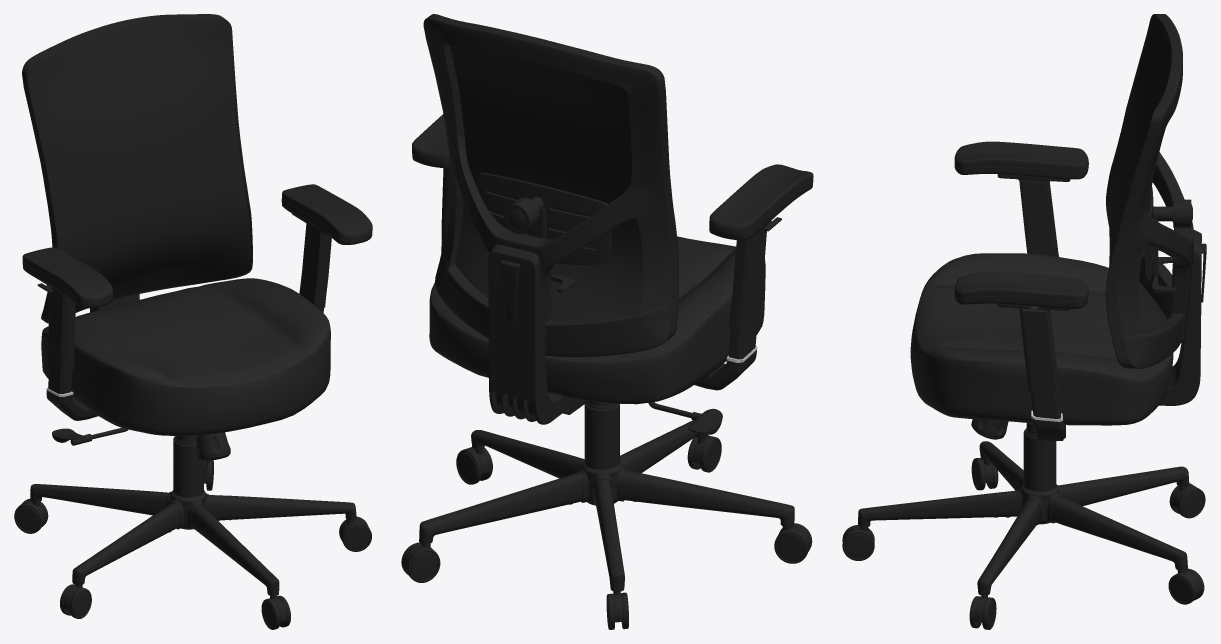
Rendered from Office_Chair_2.glb.
3 views of the same model, side by side, from view 1: azimuth 30°, elevation 25°; view 2: azimuth 150°, elevation 25°; view 3: azimuth 270°, elevation 25° (orthographic). The views are drawn at different scales.
Visible parts, largest first — view 1: Office Chair.001; view 2: Office Chair.001; view 3: Office Chair.001.
Boxes of the visible parts, bbox=[...] form: Office Chair.001: bbox=[14, 14, 372, 629]; Office Chair.001: bbox=[401, 14, 813, 629]; Office Chair.001: bbox=[842, 14, 1206, 629].
Size of the model in its own units: 0.696 by 1.06 by 0.696.
Materials: 1 (1 with a texture image).
